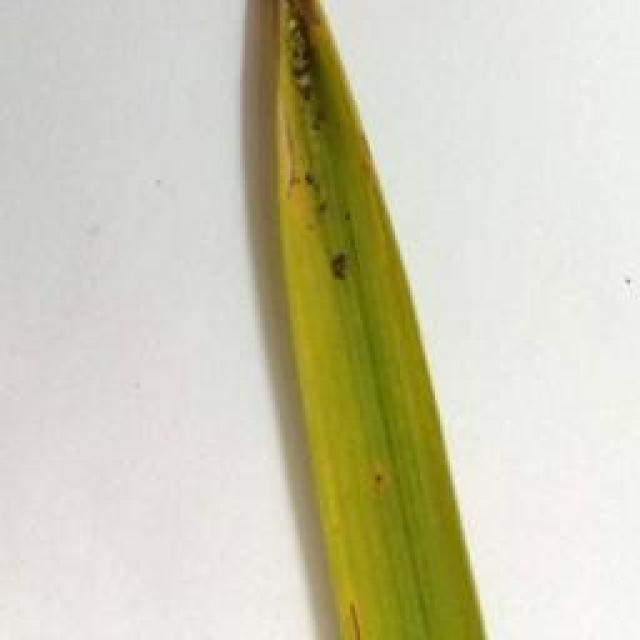Brown_Spot: (258, 0, 338, 120), (279, 172, 332, 225), (345, 590, 377, 640), (326, 248, 358, 292), (367, 454, 391, 494)
